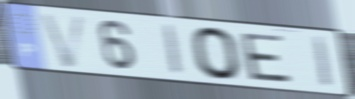6: (98, 19, 138, 72)
E: (237, 31, 294, 85)
I: (310, 34, 336, 90), (160, 22, 186, 78)
O: (188, 25, 244, 82)
V: (37, 11, 89, 70)
